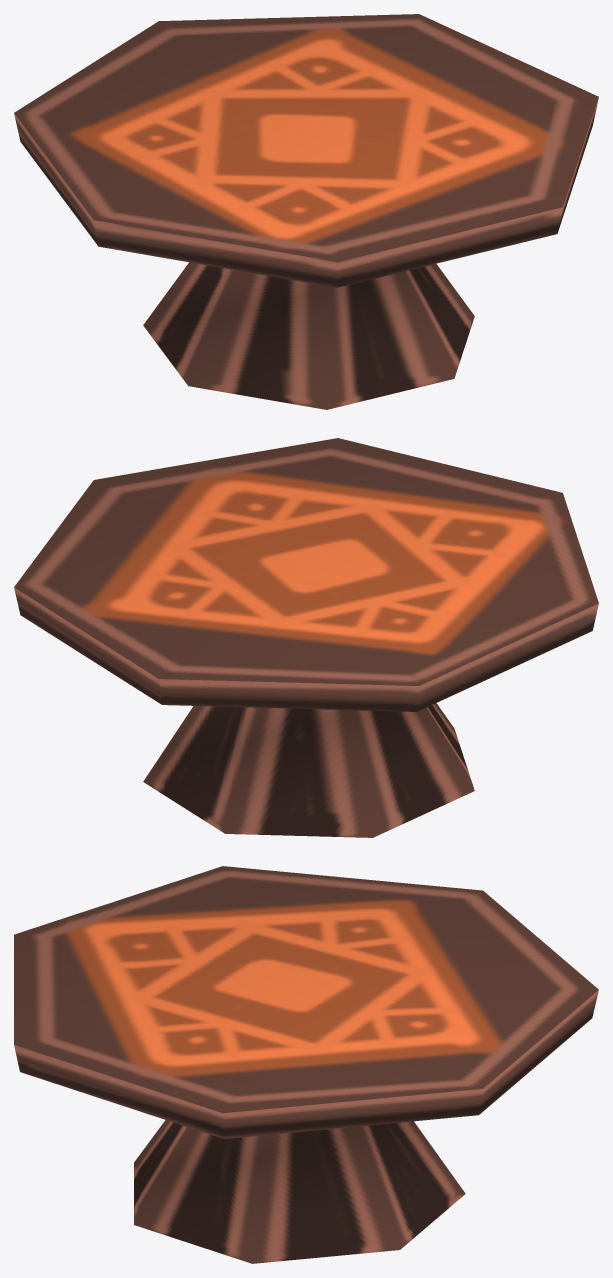
The model's file is amazoncafe_mesa.gltf.
3 renders of one model, top to bottom at view 1: azimuth 30°, elevation 25°; view 2: azimuth 150°, elevation 25°; view 3: azimuth 270°, elevation 25°, orthographic.
Parts seen in each view (by area): view 1: Mesa; view 2: Mesa; view 3: Mesa.
Part boxes in pixels (<box>): Mesa: <box>14,14,598,409</box>; Mesa: <box>14,438,598,837</box>; Mesa: <box>14,866,598,1263</box>.
Bounding box in the file's own units: 2 × 0.77 × 2.
1 material, 1 textured.
